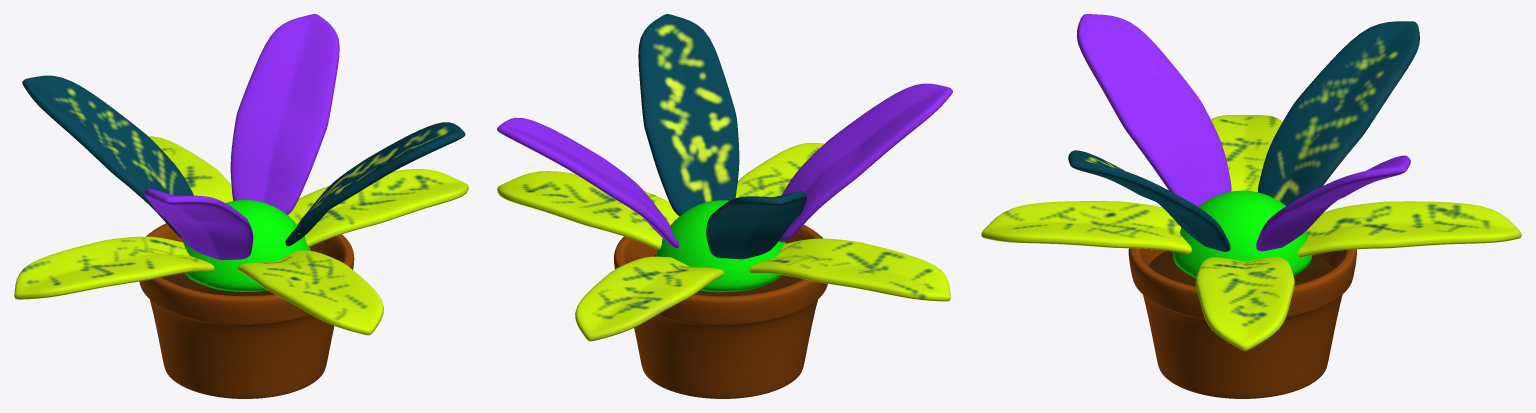
File: comida_entera.obj
3 renders of one model, left to right at view 1: azimuth 30°, elevation 25°; view 2: azimuth 150°, elevation 25°; view 3: azimuth 270°, elevation 25°, orthographic. The views are drawn at different scales.
Visible parts, largest first — view 1: pCylinder3; view 2: pCylinder3; view 3: pCylinder3.
Boxes of the visible parts, x1,y1,x2,y2 form: pCylinder3: [14, 14, 468, 398]; pCylinder3: [497, 14, 952, 398]; pCylinder3: [981, 14, 1521, 398].
Size of the model in its own units: 0.9874 by 0.5411 by 0.9747.
1 material, 1 textured.
